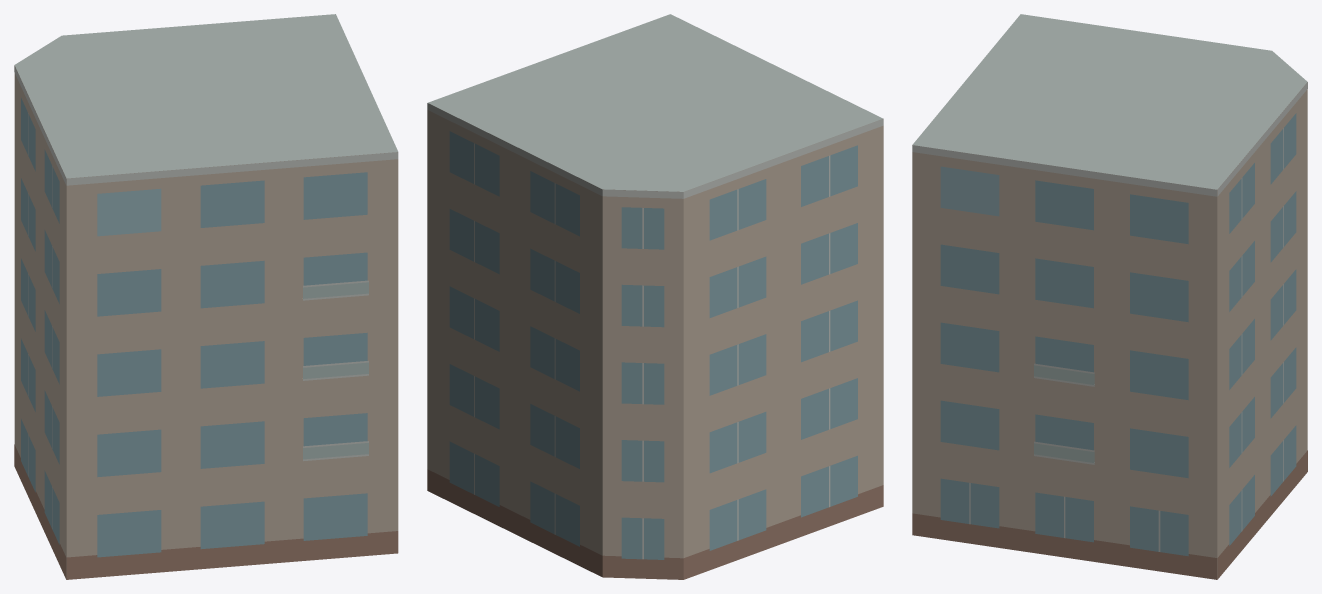
Rendered from survey-upis-32702016.glb.
3 views of the same model, side by side, from view 1: azimuth 30°, elevation 25°; view 2: azimuth 150°, elevation 25°; view 3: azimuth 270°, elevation 25° (orthographic). The views are drawn at different scales.
Parts seen in each view (by area): view 1: survey-upis-32702016.tmp; view 2: survey-upis-32702016.tmp; view 3: survey-upis-32702016.tmp.
Boxes of the visible parts, x1,y1,x2,y2 form: survey-upis-32702016.tmp: (14, 14, 398, 579); survey-upis-32702016.tmp: (427, 14, 883, 579); survey-upis-32702016.tmp: (912, 14, 1307, 579).
Bounding box in the file's own units: 13.15 × 13.6 × 12.51.
